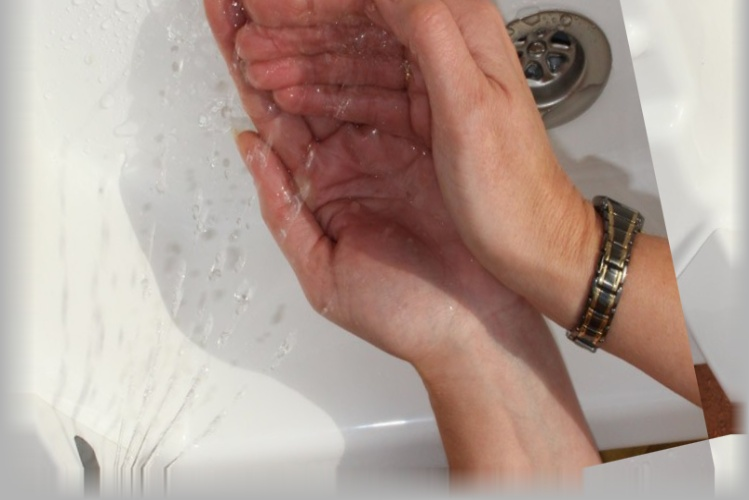washing hand: (0, 0, 649, 499)
